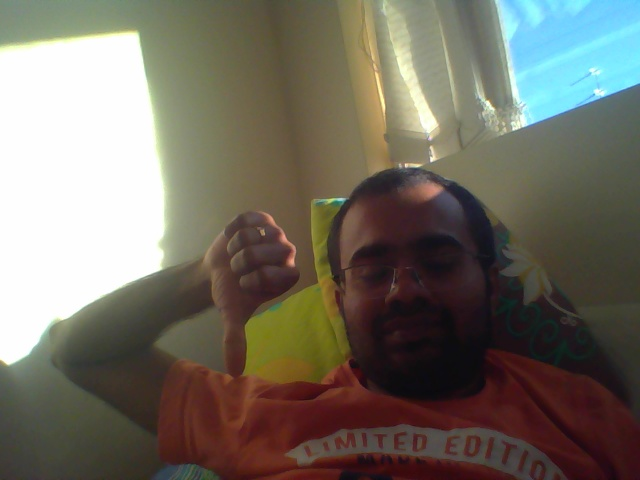ThumbsDown: (201, 208, 303, 380)
